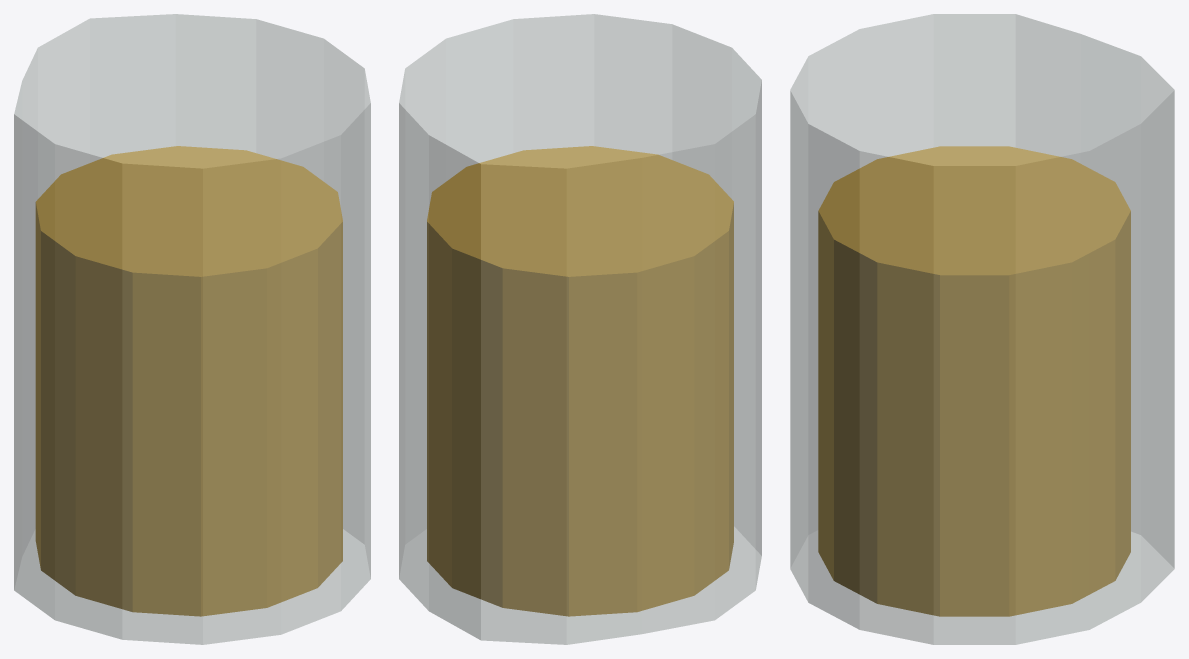
Rendered from gerippte.glb.
3 renders of one model, left to right at view 1: azimuth 30°, elevation 25°; view 2: azimuth 150°, elevation 25°; view 3: azimuth 270°, elevation 25°, orthographic.
Parts seen in each view (by area): view 1: glaskoerper, inhalt; view 2: glaskoerper, inhalt; view 3: glaskoerper, inhalt.
Part boxes in pixels (x1,y1,x2,y2): glaskoerper: (14, 14, 370, 644); inhalt: (35, 146, 342, 616); glaskoerper: (399, 14, 761, 644); inhalt: (427, 146, 733, 616); glaskoerper: (790, 14, 1174, 644); inhalt: (818, 146, 1130, 616).
Size of the model in its own units: 0.0783 by 0.115 by 0.0837.
